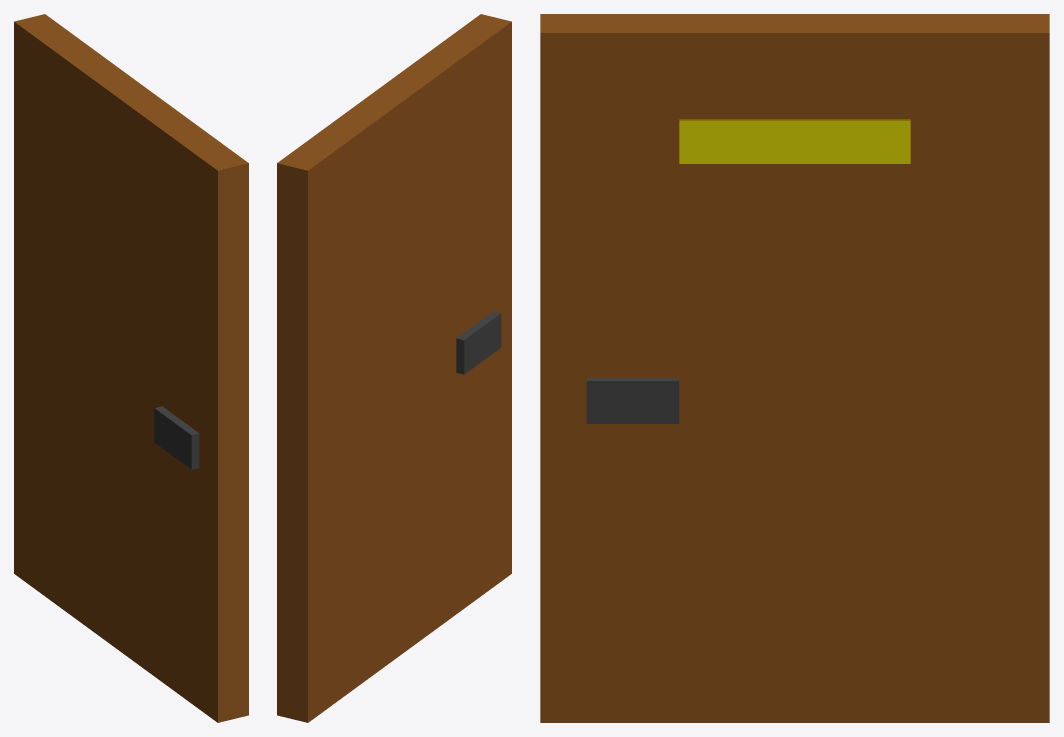
Rendered from Office_Door.fbx.
3 views of the same model, side by side, from view 1: azimuth 30°, elevation 25°; view 2: azimuth 150°, elevation 25°; view 3: azimuth 270°, elevation 25° (orthographic). The views are drawn at different scales.
Parts seen in each view (by area): view 1: Cube.001; view 2: Cube.001; view 3: Cube.001.
Part boxes in pixels (left/top/right/bottom): Cube.001: left=14, top=14, right=248, bottom=722; Cube.001: left=277, top=14, right=511, bottom=722; Cube.001: left=540, top=14, right=1049, bottom=722.
Bounding box in the file's own units: 27.67 × 333 × 223.
